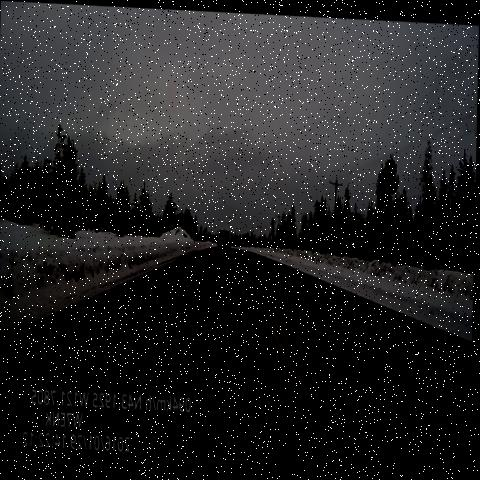pothole: (177, 264, 206, 291), (218, 272, 239, 301), (169, 281, 191, 303), (199, 251, 216, 268)
